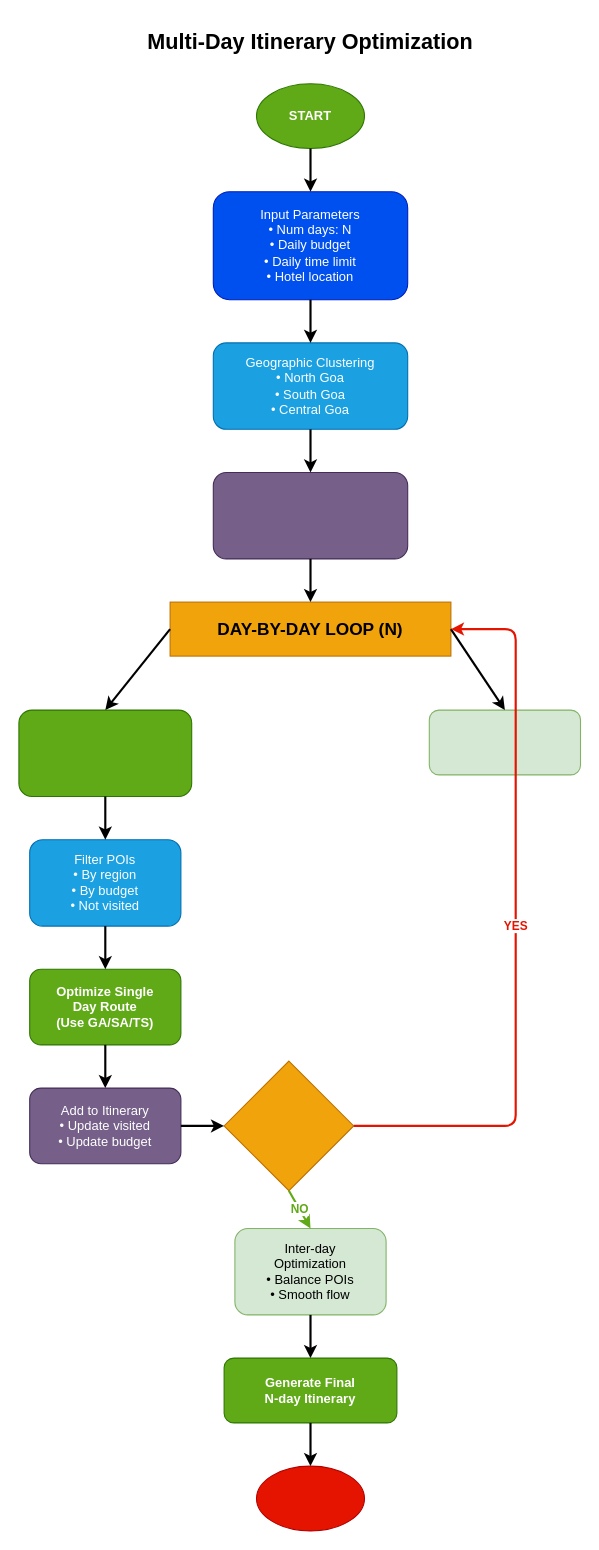
This 599x1550 diagram has some shape labels left out. The shapes that lost their labels are listed below. From the top down, each one's box as (x1, y1, x2, y2) in pixels, then its label:
(212, 471, 408, 559): Score All POIs • User preferences • Popularity • Seasonality
(18, 709, 192, 796): Select Region for Day i • Minimize inter-region travel
(428, 709, 580, 775): Balance Budget across Days
(223, 1060, 354, 1191): More Days?
(255, 1465, 364, 1531): END
